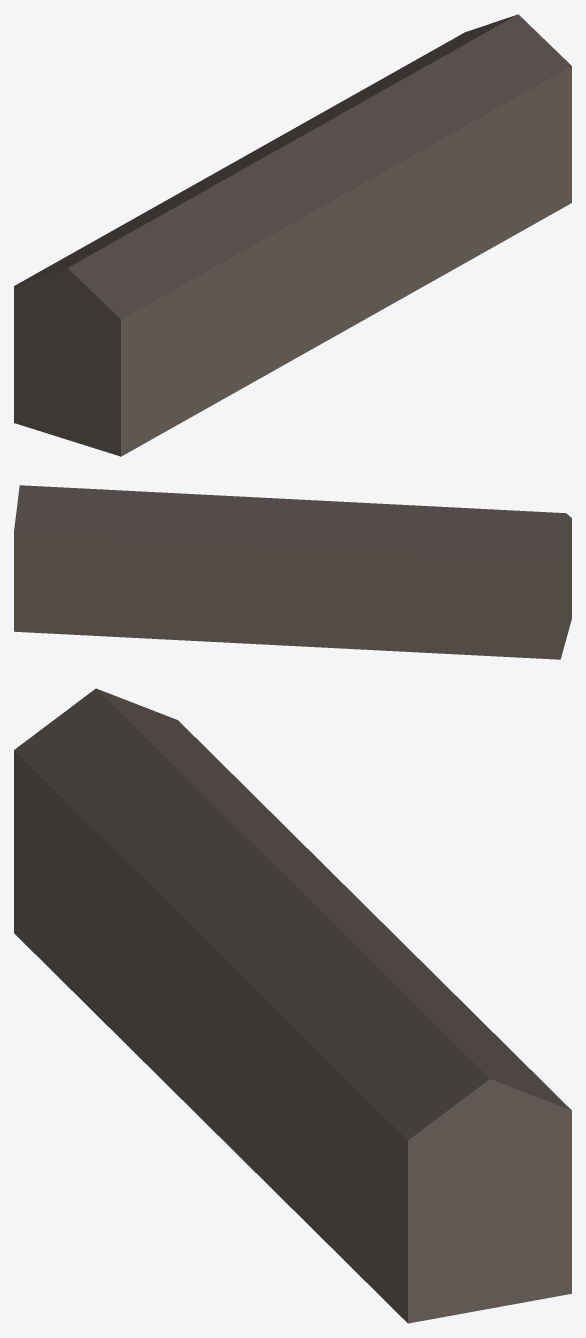
3 views of the same model, one above another, from view 1: azimuth 30°, elevation 25°; view 2: azimuth 150°, elevation 25°; view 3: azimuth 270°, elevation 25° (orthographic). The views are drawn at different scales.
Parts seen in each view (by area): view 1: HP-w369237978; view 2: HP-w369237978; view 3: HP-w369237978.
Part boxes in pixels (bbox=[...]): HP-w369237978: bbox=[14, 14, 571, 456]; HP-w369237978: bbox=[14, 485, 571, 659]; HP-w369237978: bbox=[14, 688, 571, 1323].
Size of the model in its own units: 44.31 by 11.3 by 24.86.
